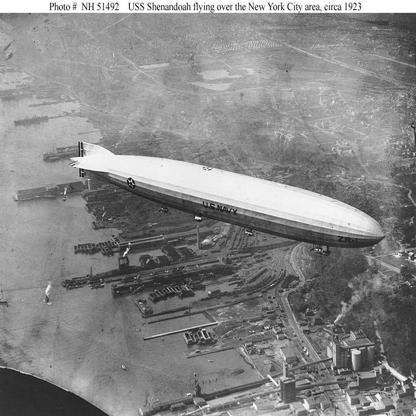Airship: (66, 137, 388, 253)
